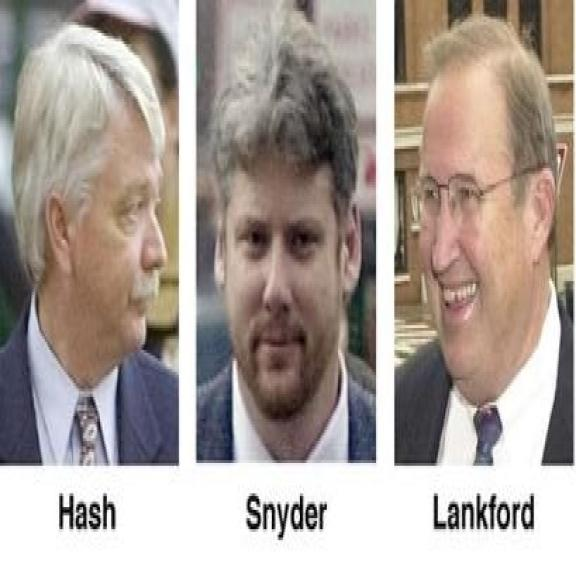face: (216, 51, 364, 417), (12, 29, 169, 367), (419, 29, 560, 385)
